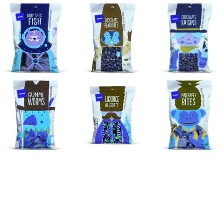snack: (2, 0, 66, 75), (157, 75, 217, 154), (81, 0, 142, 76), (157, 0, 217, 75), (6, 76, 63, 153), (81, 82, 141, 148)
